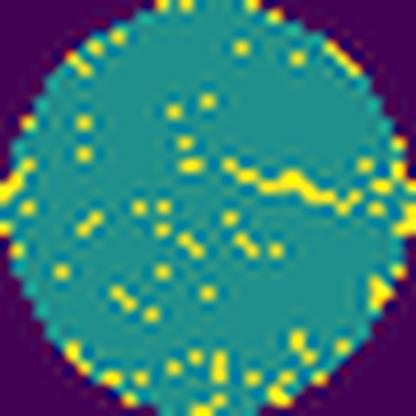Scratch: (220, 155, 367, 220)
